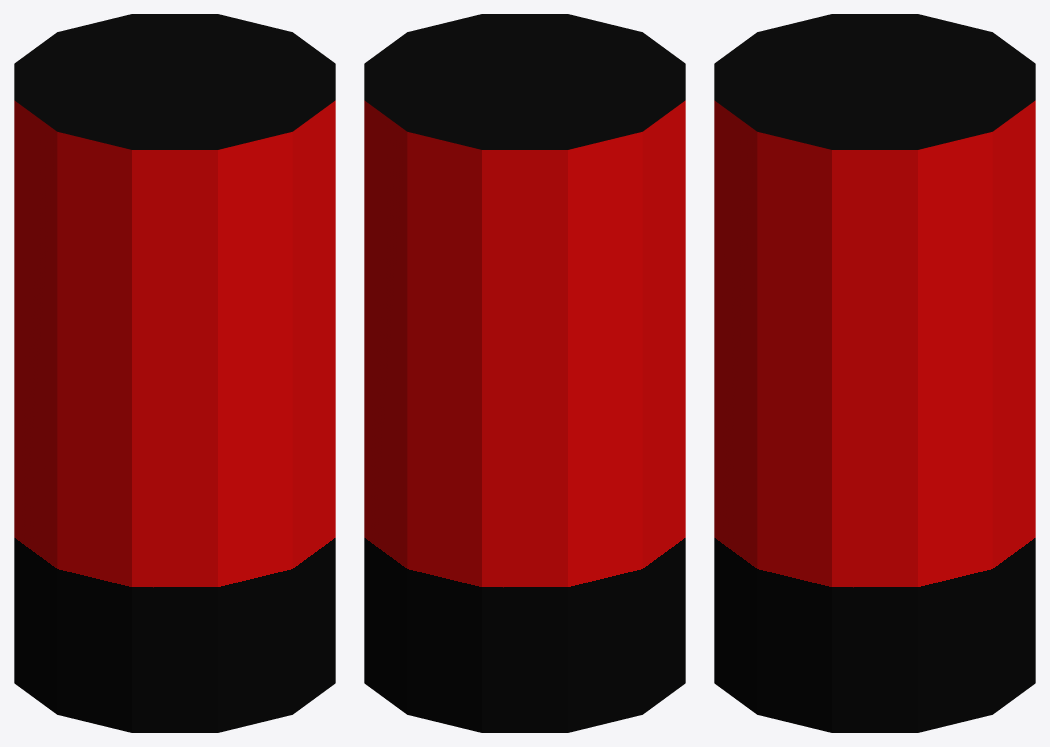
Rendered from cartucho de escopeta.gltf.
3 renders of one model, left to right at view 1: azimuth 30°, elevation 25°; view 2: azimuth 150°, elevation 25°; view 3: azimuth 270°, elevation 25°, orthographic.
Visible parts, largest first — view 1: cylinder; view 2: cylinder; view 3: cylinder.
Part boxes in pixels (x1,y1,x2,y2): cylinder: (14,14,335,732); cylinder: (364,14,685,732); cylinder: (714,14,1035,732).
Size of the model in its own units: 0.125 by 0.25 by 0.125.
1 material, 1 textured.
